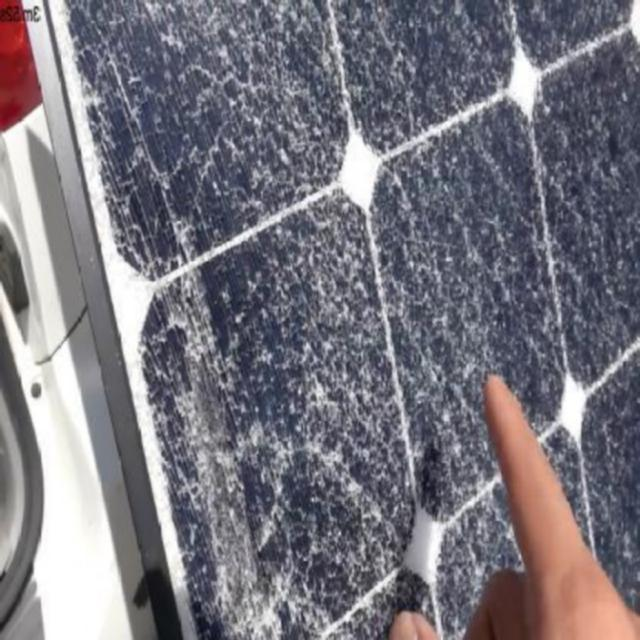cracked: (54, 1, 640, 640)
